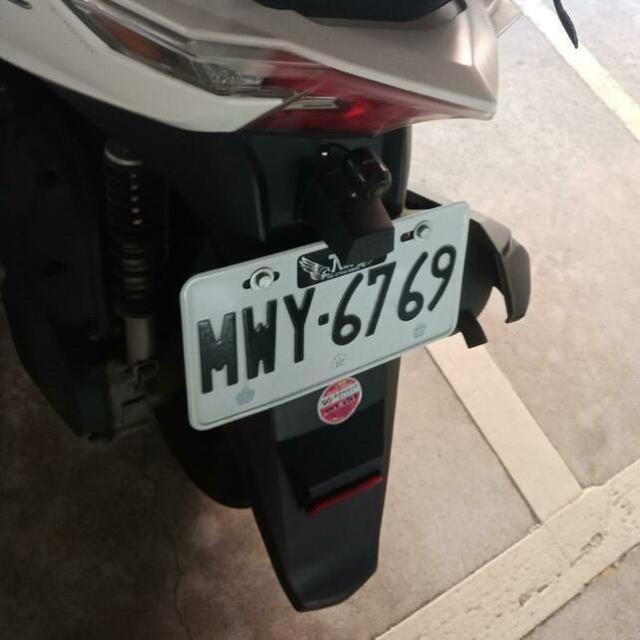W: (159, 200, 482, 448)
